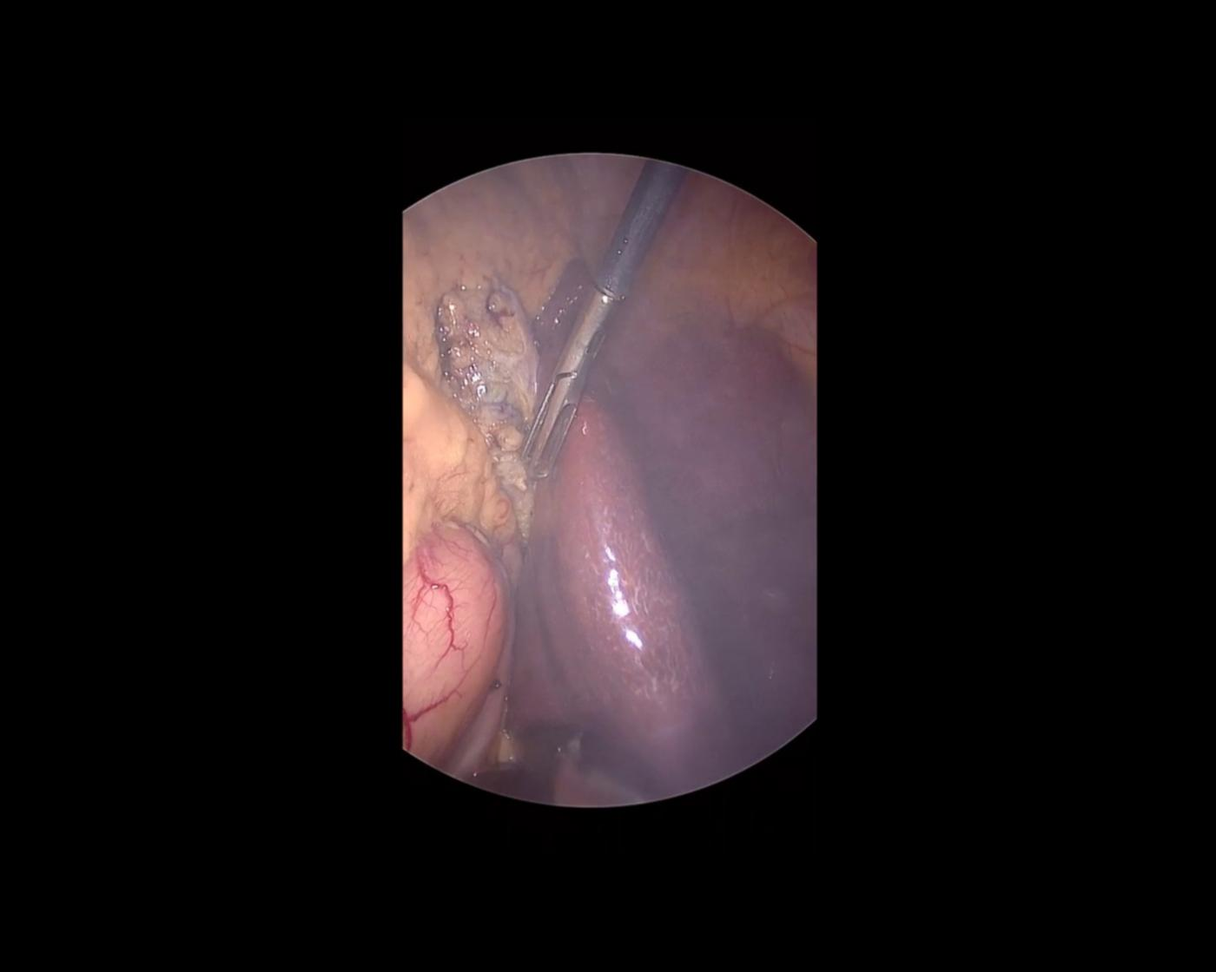Forceps: (508, 153, 687, 488)
Gallbladder: (426, 276, 571, 561)
Liver: (382, 257, 741, 840)
